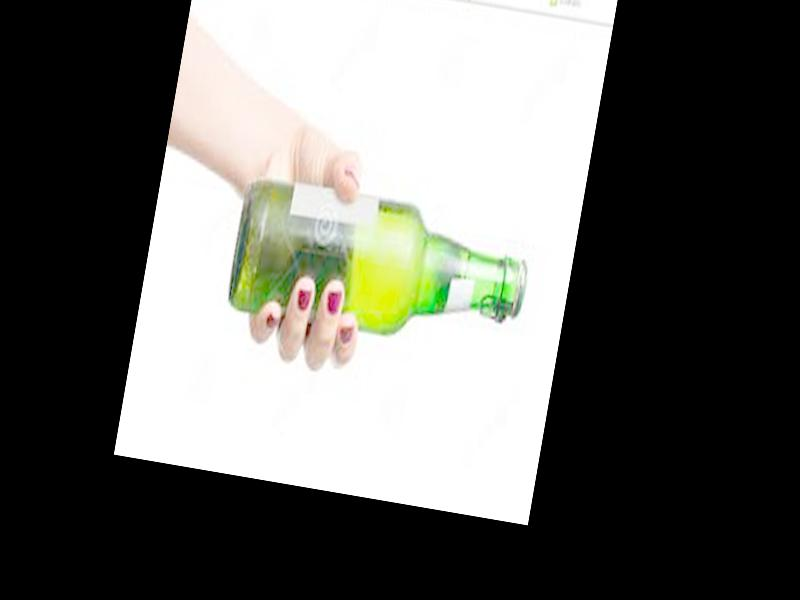Beer: (224, 171, 537, 366)
